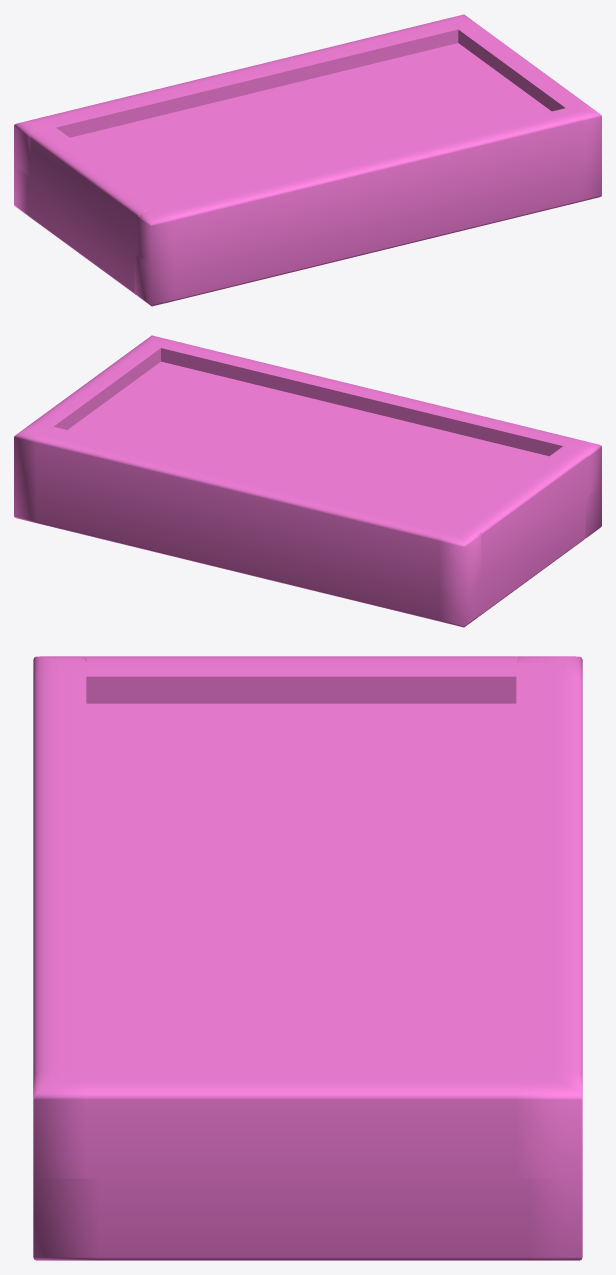
Rendered from savon cb.fbx.
3 renders of one model, top to bottom at view 1: azimuth 30°, elevation 25°; view 2: azimuth 150°, elevation 25°; view 3: azimuth 270°, elevation 25°, orthographic. The views are drawn at different scales.
Parts seen in each view (by area): view 1: Box001, Box002; view 2: Box001, Box002; view 3: Box001, Box002.
Part boxes in pixels (left/top/right/bottom): Box001: left=14, top=14, right=601, bottom=265; Box002: left=14, top=156, right=601, bottom=306; Box001: left=14, top=335, right=601, bottom=586; Box002: left=14, top=477, right=601, bottom=627; Box001: left=33, top=656, right=582, bottom=1178; Box002: left=33, top=1178, right=582, bottom=1260.
Bounding box in the file's own units: 23.44 × 4.33 × 12.37.
